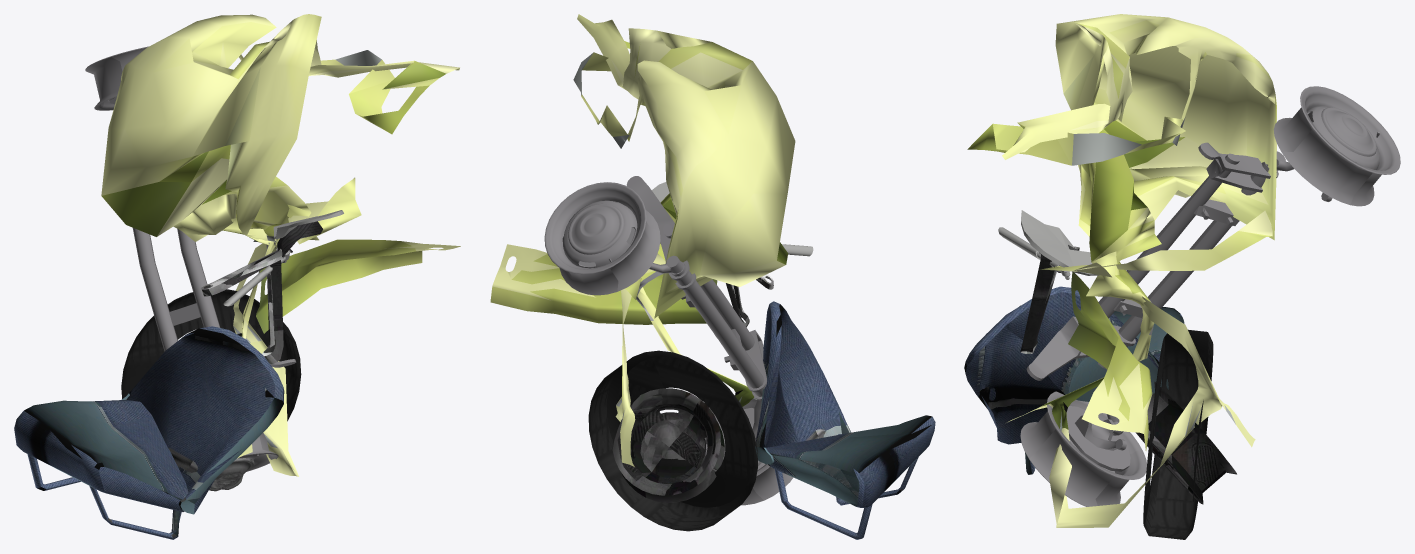
File: car_1.fbx
3 views of the same model, side by side, from view 1: azimuth 30°, elevation 25°; view 2: azimuth 150°, elevation 25°; view 3: azimuth 270°, elevation 25° (orthographic). The views are drawn at different scales.
Parts seen in each view (by area): view 1: CAR_MAYA_BINARY:polySurface78, CAR_MAYA_BINARY:seat2, CAR_MAYA_BINARY:hubcap3, CAR_MAYA_BINARY1:polySurface244, CAR_MAYA_BINARY:tire2, CAR_MAYA_BINARY:polySurface375, CAR_MAYA_BINARY:polySurface88; view 2: CAR_MAYA_BINARY:polySurface78, CAR_MAYA_BINARY:seat2, CAR_MAYA_BINARY:hubcap3, CAR_MAYA_BINARY:tire2, CAR_MAYA_BINARY:wheel3, CAR_MAYA_BINARY1:polySurface244, CAR_MAYA_BINARY:polySurface375; view 3: CAR_MAYA_BINARY:polySurface78, CAR_MAYA_BINARY:hubcap3, CAR_MAYA_BINARY:seat2, CAR_MAYA_BINARY:tire2, CAR_MAYA_BINARY1:polySurface244, CAR_MAYA_BINARY:wheel3, CAR_MAYA_BINARY:polySurface375, CAR_MAYA_BINARY:polySurface88.
Part boxes in pixels (bbox=[...]): CAR_MAYA_BINARY:polySurface78: bbox=[101, 14, 459, 476]; CAR_MAYA_BINARY:seat2: bbox=[14, 326, 284, 539]; CAR_MAYA_BINARY:hubcap3: bbox=[85, 46, 296, 491]; CAR_MAYA_BINARY1:polySurface244: bbox=[256, 239, 460, 333]; CAR_MAYA_BINARY:tire2: bbox=[121, 289, 301, 421]; CAR_MAYA_BINARY:polySurface375: bbox=[201, 210, 343, 363]; CAR_MAYA_BINARY:polySurface88: bbox=[288, 177, 361, 244]; CAR_MAYA_BINARY:polySurface78: bbox=[573, 14, 795, 466]; CAR_MAYA_BINARY:seat2: bbox=[755, 301, 935, 539]; CAR_MAYA_BINARY:hubcap3: bbox=[544, 176, 793, 505]; CAR_MAYA_BINARY:tire2: bbox=[588, 350, 757, 531]; CAR_MAYA_BINARY:wheel3: bbox=[612, 388, 724, 502]; CAR_MAYA_BINARY1:polySurface244: bbox=[490, 244, 717, 324]; CAR_MAYA_BINARY:polySurface375: bbox=[652, 182, 813, 327]; CAR_MAYA_BINARY:polySurface78: bbox=[967, 14, 1276, 527]; CAR_MAYA_BINARY:hubcap3: bbox=[1020, 86, 1400, 506]; CAR_MAYA_BINARY:seat2: bbox=[964, 286, 1184, 474]; CAR_MAYA_BINARY:tire2: bbox=[1143, 329, 1213, 539]; CAR_MAYA_BINARY1:polySurface244: bbox=[1068, 272, 1152, 450]; CAR_MAYA_BINARY:wheel3: bbox=[1135, 381, 1236, 504]; CAR_MAYA_BINARY:polySurface375: bbox=[998, 210, 1098, 353]; CAR_MAYA_BINARY:polySurface88: bbox=[1040, 210, 1272, 277].
Size of the model in its own units: 6.88 by 7.43 by 5.6.
7 materials, 7 textured.
